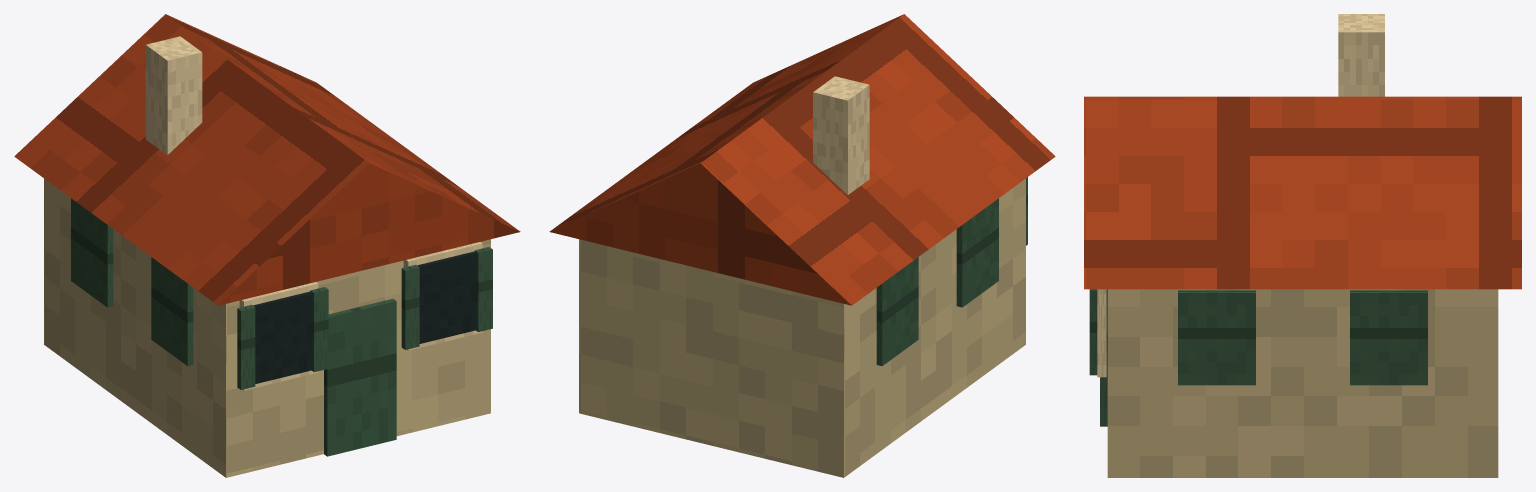
Rendered from OldHouse.fbx.
3 renders of one model, left to right at view 1: azimuth 30°, elevation 25°; view 2: azimuth 150°, elevation 25°; view 3: azimuth 270°, elevation 25°, orthographic. The views are drawn at different scales.
Visible parts, largest first — view 1: Telhado duas águas.016, Paredes.016, Porta.016, Chaminé.014, Janela.047, Janela.046, Janela lateral.065, Janela lateral.064, Veneziana.092, Veneziana.094, Veneziana.093, Veneziana.095 (+2 smaller); view 2: Telhado duas águas.016, Paredes.016, Chaminé.014, Janela lateral.064, Janela lateral.065; view 3: Telhado duas águas.016, Paredes.016, Janela lateral.066, Janela lateral.067, Chaminé.014, Moldura.047, Veneziana.095, Porta.016.
Part boxes in pixels (bbox=[...]): Telhado duas águas.016: bbox=[14, 14, 520, 305]; Paredes.016: bbox=[44, 178, 490, 477]; Porta.016: bbox=[324, 298, 396, 456]; Chaminé.014: bbox=[145, 36, 202, 154]; Janela.047: bbox=[417, 251, 476, 343]; Janela.046: bbox=[253, 291, 312, 383]; Janela lateral.065: bbox=[71, 198, 113, 307]; Janela lateral.064: bbox=[151, 257, 193, 366]; Veneziana.092: bbox=[237, 304, 255, 389]; Veneziana.094: bbox=[401, 264, 419, 349]; Veneziana.093: bbox=[310, 287, 328, 372]; Veneziana.095: bbox=[474, 247, 492, 331]; Telhado duas águas.016: bbox=[549, 14, 1055, 305]; Paredes.016: bbox=[579, 178, 1025, 477]; Chaminé.014: bbox=[813, 76, 869, 194]; Janela lateral.064: bbox=[956, 198, 998, 307]; Janela lateral.065: bbox=[876, 257, 918, 366]; Telhado duas águas.016: bbox=[1084, 96, 1521, 289]; Paredes.016: bbox=[1107, 289, 1498, 477]; Janela lateral.066: bbox=[1178, 290, 1255, 385]; Janela lateral.067: bbox=[1350, 290, 1427, 385]; Chaminé.014: bbox=[1338, 14, 1384, 96]; Moldura.047: bbox=[1097, 289, 1106, 377]; Veneziana.095: bbox=[1089, 289, 1097, 375]; Porta.016: bbox=[1100, 289, 1107, 426].
Bounding box in the file's own units: 480 × 495 × 560.
5 materials, 5 textured.
